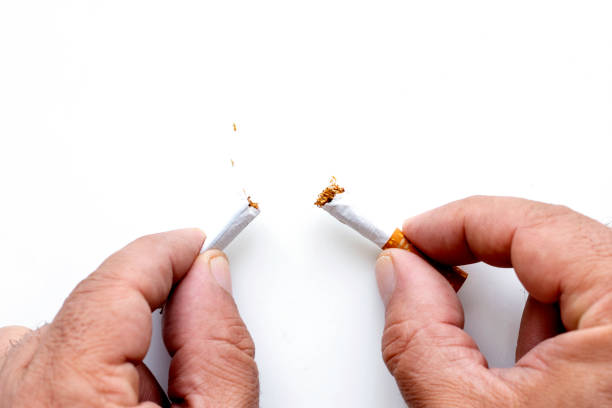cigarette: (311, 182, 470, 291), (195, 197, 263, 254)
